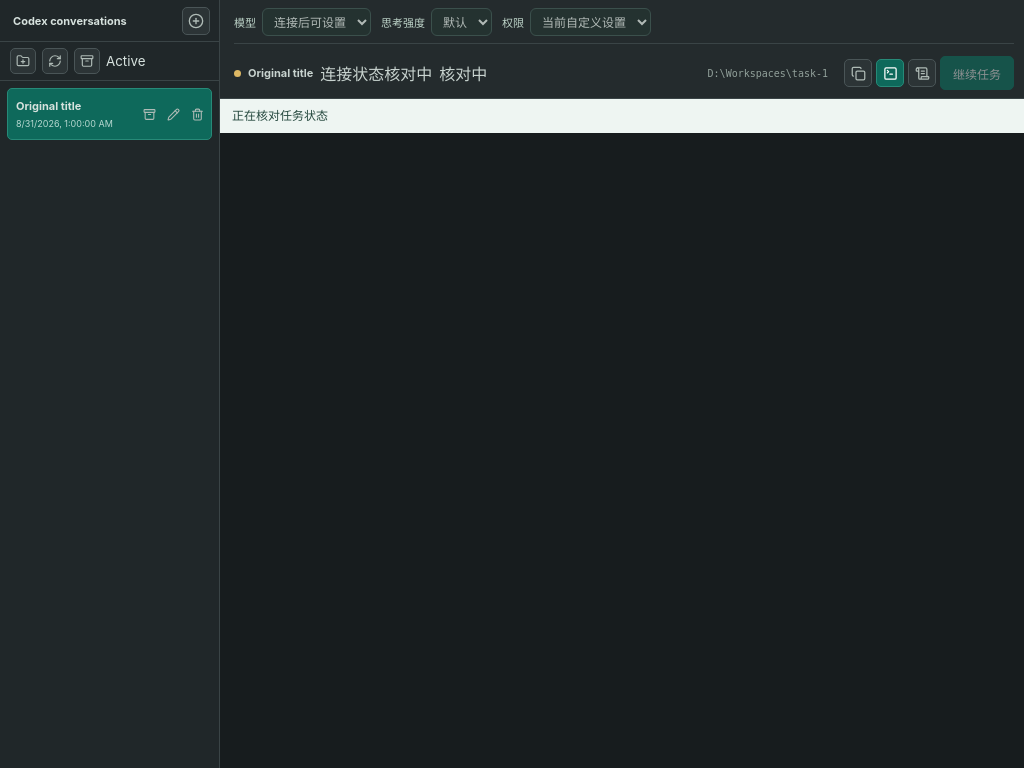
Codex conversation list › preserves the active conversation when native archival fails
This screenshot has width=1024, height=768.
Click the button titled "Archive conversation and stop terminal" at (149, 114), box left=137, top=102, right=161, bottom=126
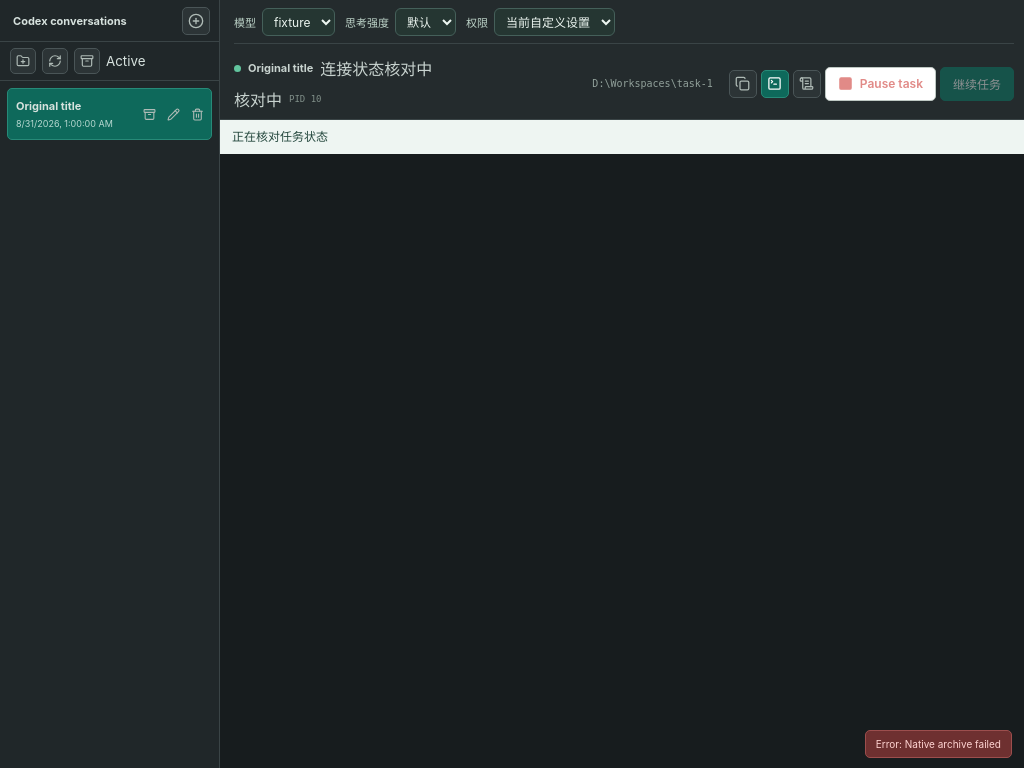
Expected: the text "Error: Native archive failed" is shown, left=865, top=730, right=1012, bottom=758
